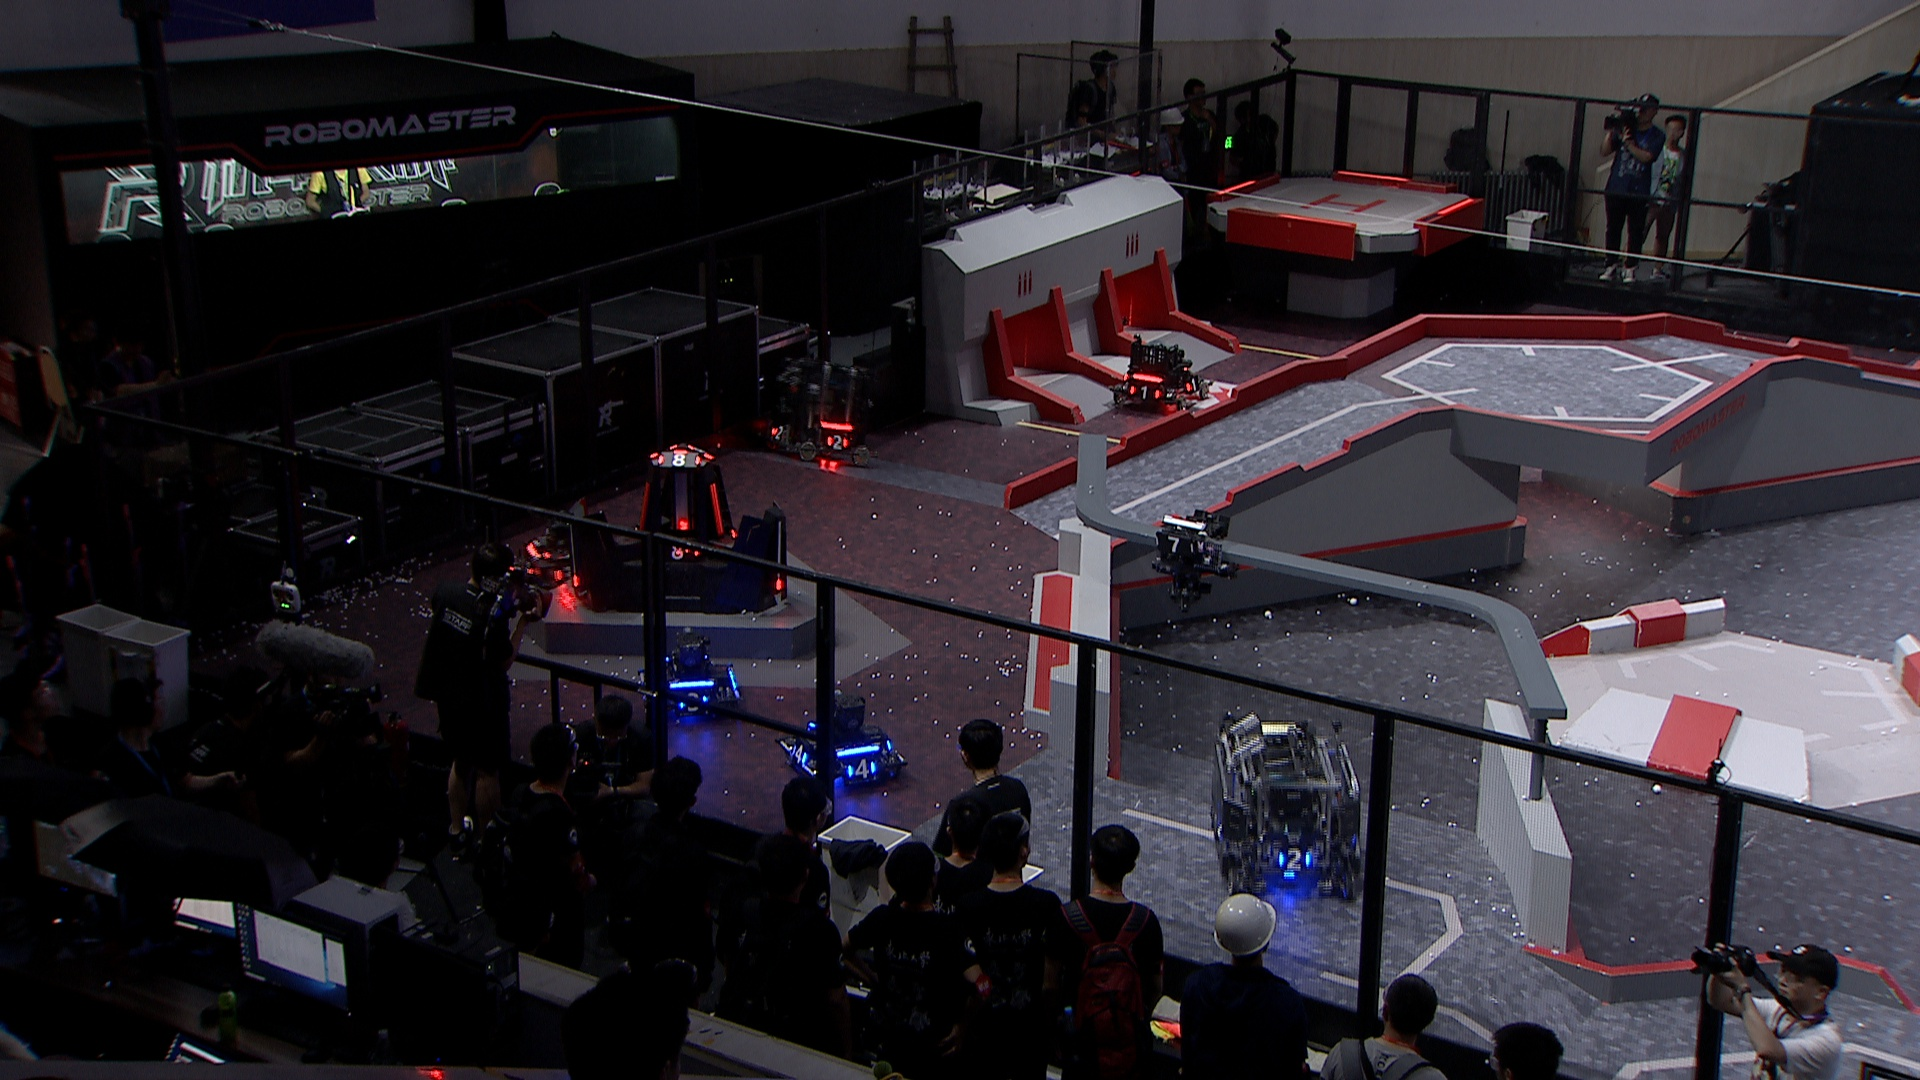armor: (709, 480, 728, 541), (1153, 534, 1196, 559), (636, 479, 654, 535), (1275, 845, 1313, 872), (676, 690, 713, 716), (847, 757, 880, 783), (657, 454, 705, 469), (1126, 384, 1164, 404), (666, 545, 702, 564), (825, 433, 851, 452), (551, 564, 572, 584), (790, 744, 808, 766), (1183, 375, 1201, 394), (671, 516, 692, 533), (767, 425, 789, 442), (568, 571, 583, 588), (773, 575, 785, 591)
base: (564, 442, 793, 617)
car: (1209, 711, 1367, 901), (775, 688, 911, 793), (750, 352, 870, 469), (636, 626, 745, 727), (1112, 334, 1207, 414), (502, 514, 599, 593)
watcher: (1149, 504, 1236, 609)
